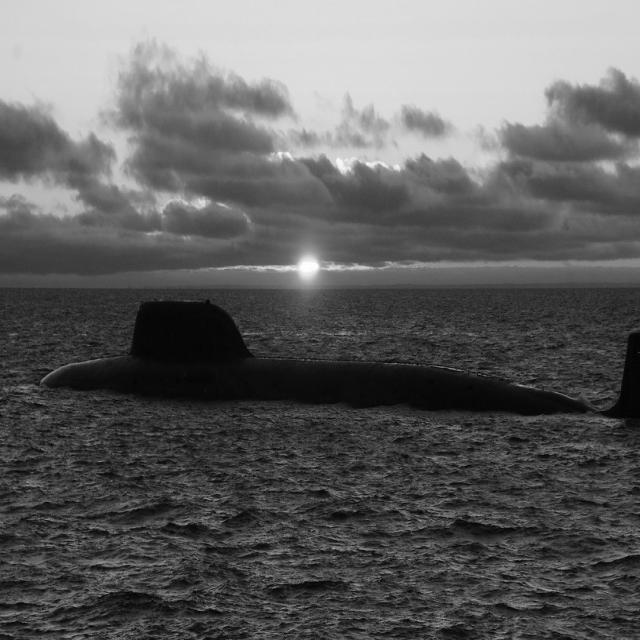submarine: (38, 294, 640, 415)
